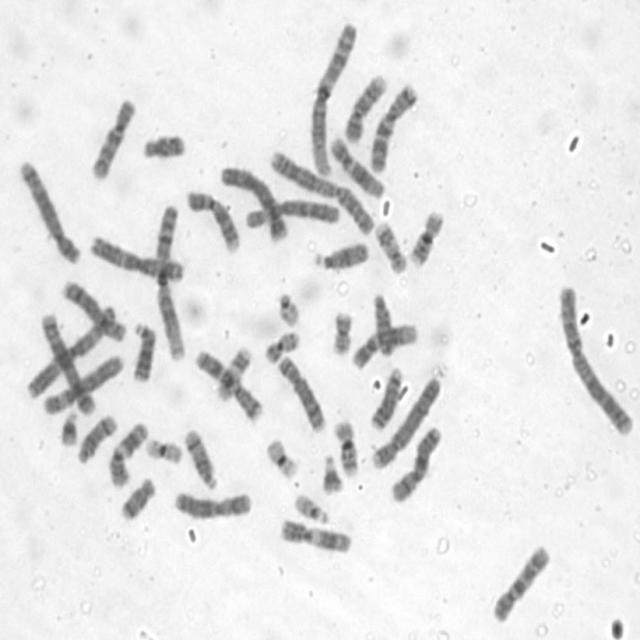A1: (308, 19, 358, 177), (152, 200, 188, 364)
A2: (554, 281, 634, 438), (266, 147, 377, 237)
A3: (24, 302, 119, 400), (87, 231, 186, 283)
B4: (367, 371, 444, 470), (217, 162, 289, 244)
B5: (16, 156, 82, 266), (38, 308, 98, 417)
C10: (487, 540, 552, 626), (86, 95, 137, 182)
C11: (105, 418, 150, 490), (276, 516, 354, 556)
C12: (328, 134, 386, 200), (349, 319, 419, 372)
C6: (39, 351, 125, 416), (242, 196, 341, 231)
C7: (192, 346, 264, 423), (366, 80, 419, 174)
C8: (59, 276, 127, 344), (276, 352, 328, 435)
C9: (184, 186, 242, 255), (341, 71, 389, 145)
D13: (368, 363, 404, 432), (129, 318, 158, 383)
D14: (181, 425, 218, 492), (74, 412, 118, 464)
D15: (310, 238, 370, 272), (370, 291, 395, 358)
E16: (406, 207, 446, 269), (332, 415, 362, 478)
E17: (212, 344, 254, 403), (373, 218, 408, 277)
E18: (118, 474, 156, 522), (138, 130, 188, 161)
F19: (263, 434, 300, 481), (143, 434, 183, 465)
F20: (261, 326, 303, 365), (329, 308, 354, 358)
G21: (319, 451, 344, 496), (58, 406, 80, 447)
G22: (291, 489, 331, 525), (274, 289, 302, 328)
X: (387, 423, 444, 505), (169, 486, 255, 521)
